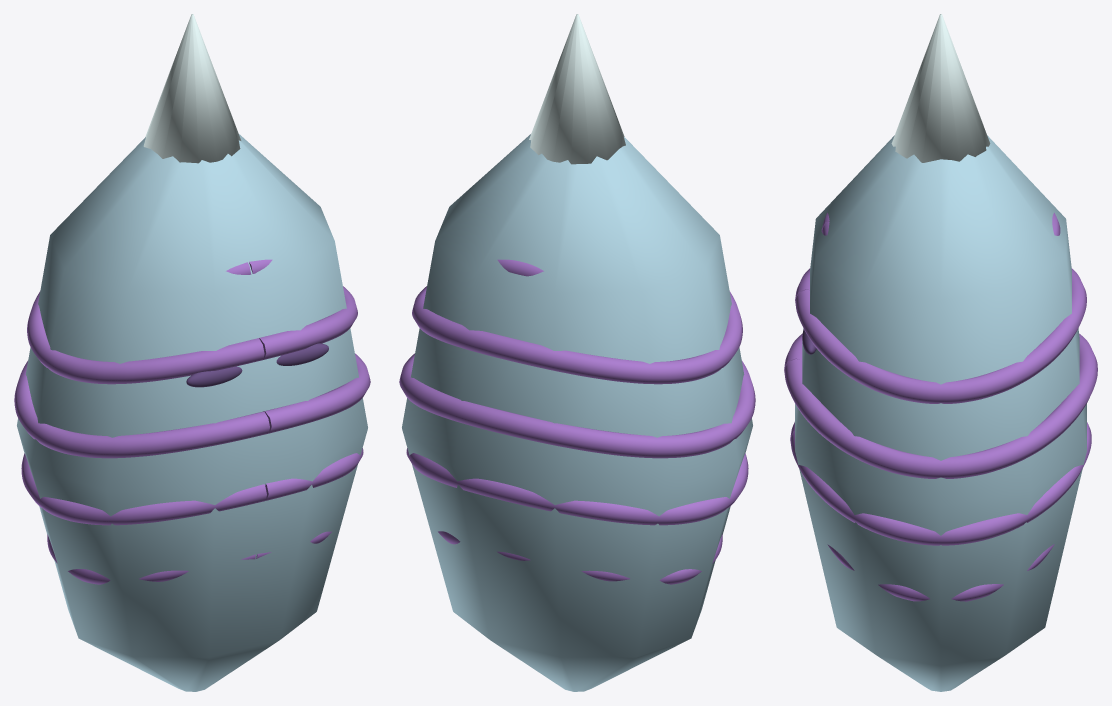
Rendered from frostsalis.glb.
3 renders of one model, left to right at view 1: azimuth 30°, elevation 25°; view 2: azimuth 150°, elevation 25°; view 3: azimuth 270°, elevation 25°, orthographic.
Parts seen in each view (by area): view 1: Tapered cocoon, Venom binding.003, Venom binding.004, Suspension crystal, Venom binding.002, Venom binding.001, Sleeping eye, Sleeping eye.001; view 2: Tapered cocoon, Venom binding.003, Venom binding.004, Suspension crystal, Venom binding.002, Venom binding.001; view 3: Tapered cocoon, Venom binding.003, Venom binding.004, Suspension crystal, Venom binding.002, Venom binding.001.
Boxes of the visible parts, x1,y1,x2,y2 form: Tapered cocoon: (17,134,367,691); Venom binding.003: (14,353,370,458); Venom binding.004: (27,286,357,384); Suspension crystal: (143,14,241,163); Venom binding.002: (21,448,363,525); Venom binding.001: (47,531,331,584); Sleeping eye: (186,366,242,387); Sleeping eye.001: (276,343,328,365); Tapered cocoon: (402,134,752,691); Venom binding.003: (399,353,755,458); Venom binding.004: (412,286,742,384); Suspension crystal: (529,14,625,164); Venom binding.002: (406,448,748,525); Venom binding.001: (438,531,722,584); Tapered cocoon: (795,135,1086,691); Venom binding.003: (784,333,1097,478); Venom binding.004: (795,268,1086,403); Suspension crystal: (891,14,990,162); Venom binding.002: (790,422,1091,545); Venom binding.001: (827,544,1054,601).
Bounding box in the file's own units: 0.3022 × 0.6 × 0.2544.
